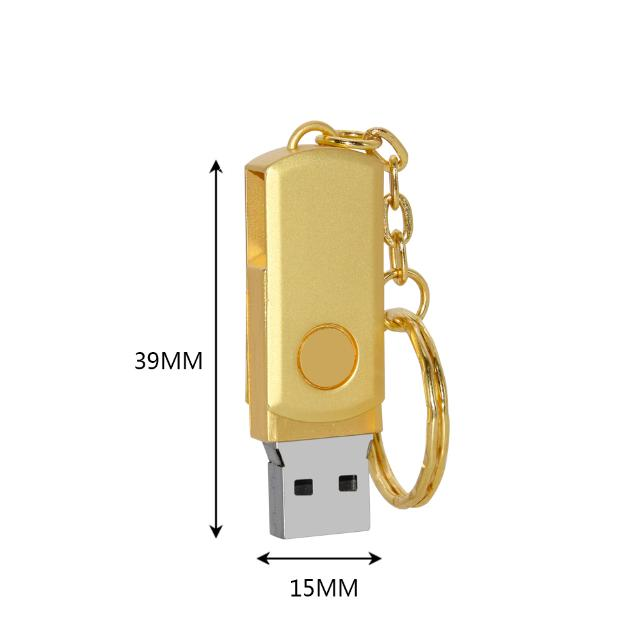USB-Flash-Drive: (245, 127, 387, 541)
